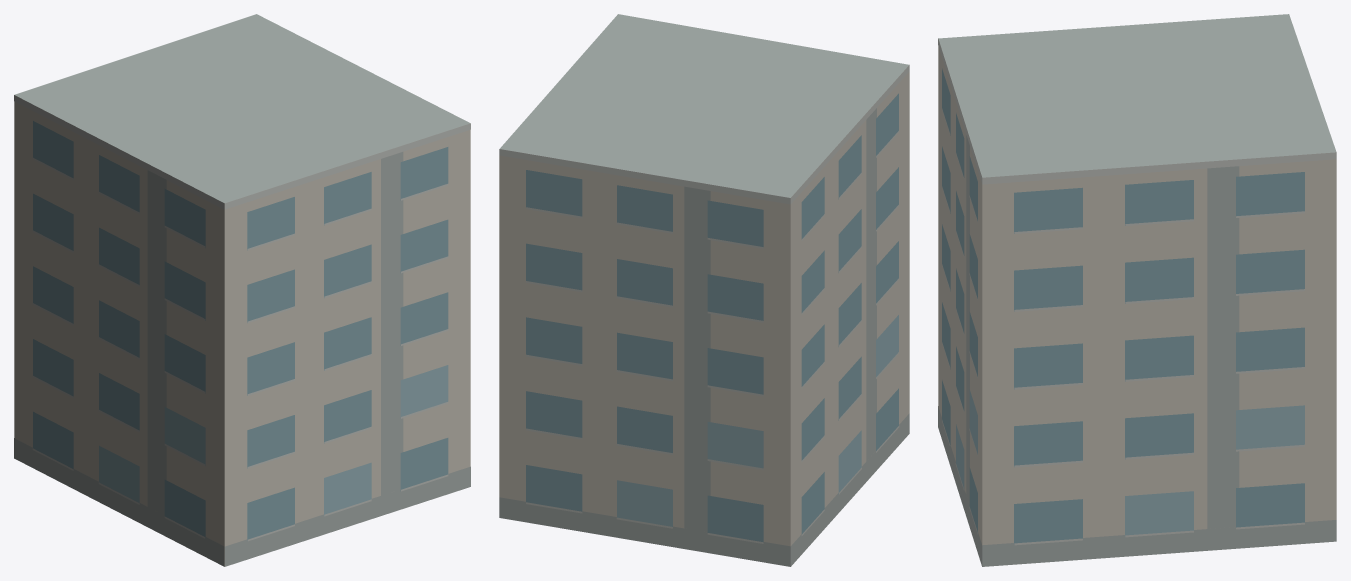
Rendered from survey-upis-32576538.glb.
The picture shows the model from 3 angles, left to right: view 1: azimuth 30°, elevation 25°; view 2: azimuth 150°, elevation 25°; view 3: azimuth 270°, elevation 25°; orthographic projection. The views are drawn at different scales.
Parts seen in each view (by area): view 1: survey-upis-32576538.tmp; view 2: survey-upis-32576538.tmp; view 3: survey-upis-32576538.tmp.
Part boxes in pixels (x1,y1,x2,y2): survey-upis-32576538.tmp: (14, 14, 470, 566); survey-upis-32576538.tmp: (499, 14, 909, 566); survey-upis-32576538.tmp: (938, 14, 1336, 566).
Bounding box in the file's own units: 12.55 × 13.9 × 12.91.
